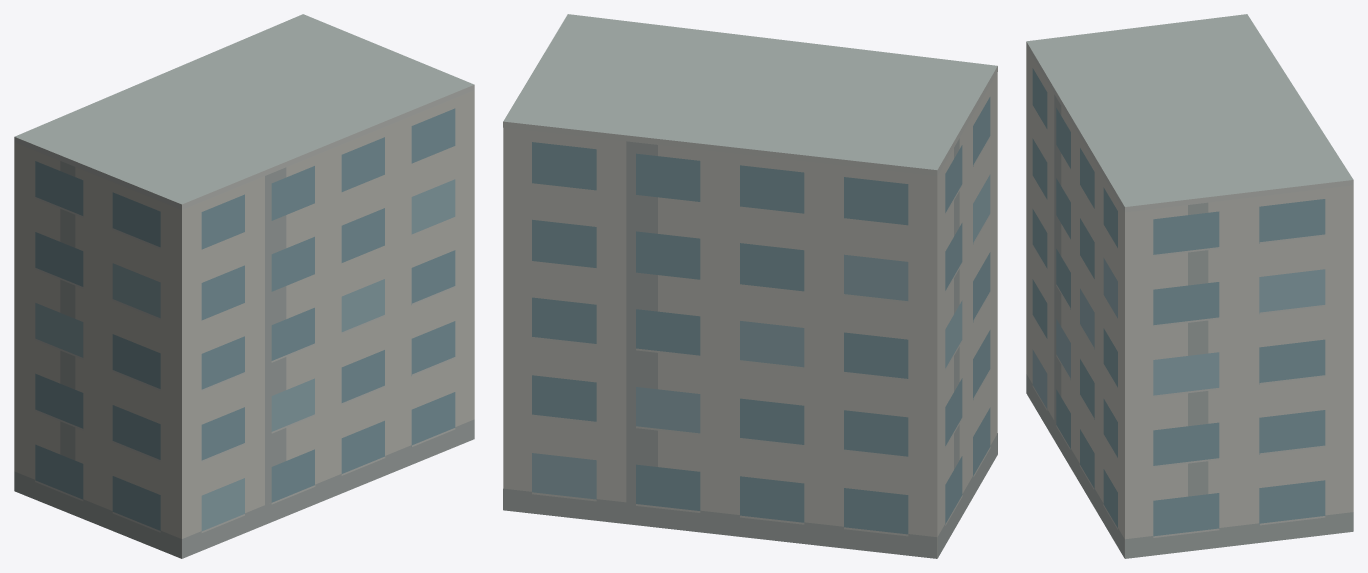
Rendered from survey-upis-32968353.glb.
3 views of the same model, side by side, from view 1: azimuth 30°, elevation 25°; view 2: azimuth 150°, elevation 25°; view 3: azimuth 270°, elevation 25° (orthographic). The views are drawn at different scales.
Parts seen in each view (by area): view 1: survey-upis-32968353.tmp; view 2: survey-upis-32968353.tmp; view 3: survey-upis-32968353.tmp.
Part boxes in pixels (x1,y1,x2,y2): survey-upis-32968353.tmp: [14, 14, 474, 558]; survey-upis-32968353.tmp: [503, 14, 997, 558]; survey-upis-32968353.tmp: [1026, 14, 1353, 558].
Bounding box in the file's own units: 18.49 × 15.7 × 13.25.
